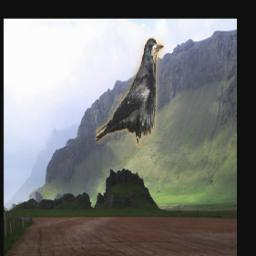Crow: (95, 38, 163, 149)
